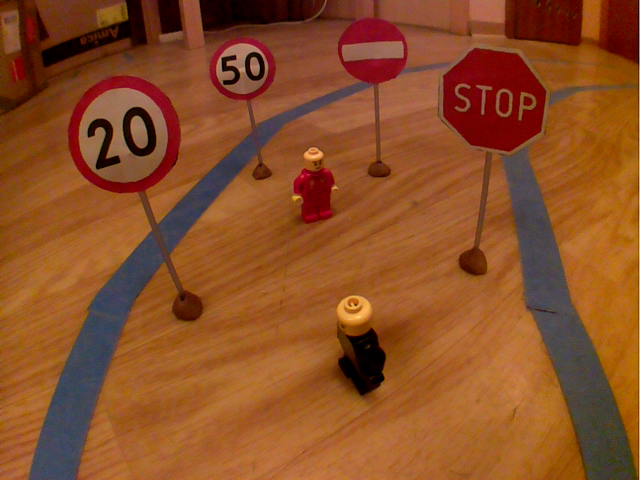Ograniczenie 20: (64, 71, 185, 197)
Ograniczenie 50: (205, 34, 281, 104)
Postac LEGO: (326, 290, 394, 404), (287, 141, 344, 227)
Stop: (431, 39, 557, 158)
Zakaz: (334, 13, 414, 89)
